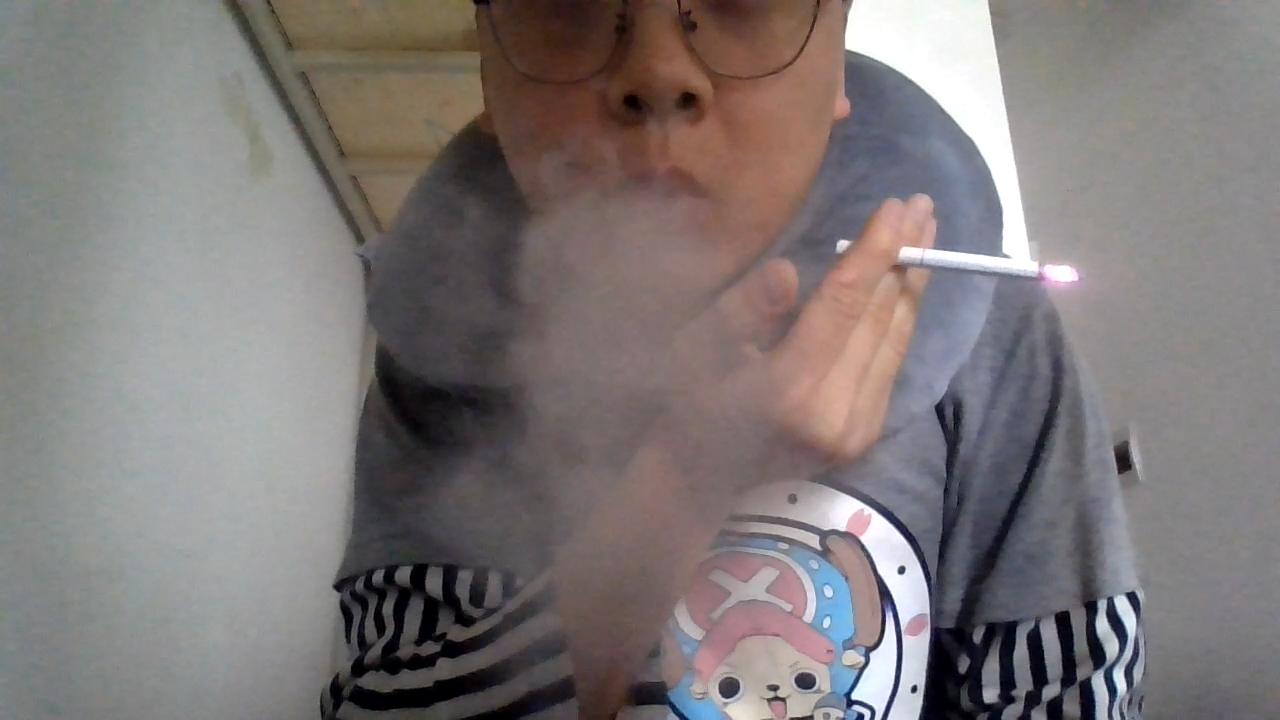yanwu: (419, 171, 781, 574)
